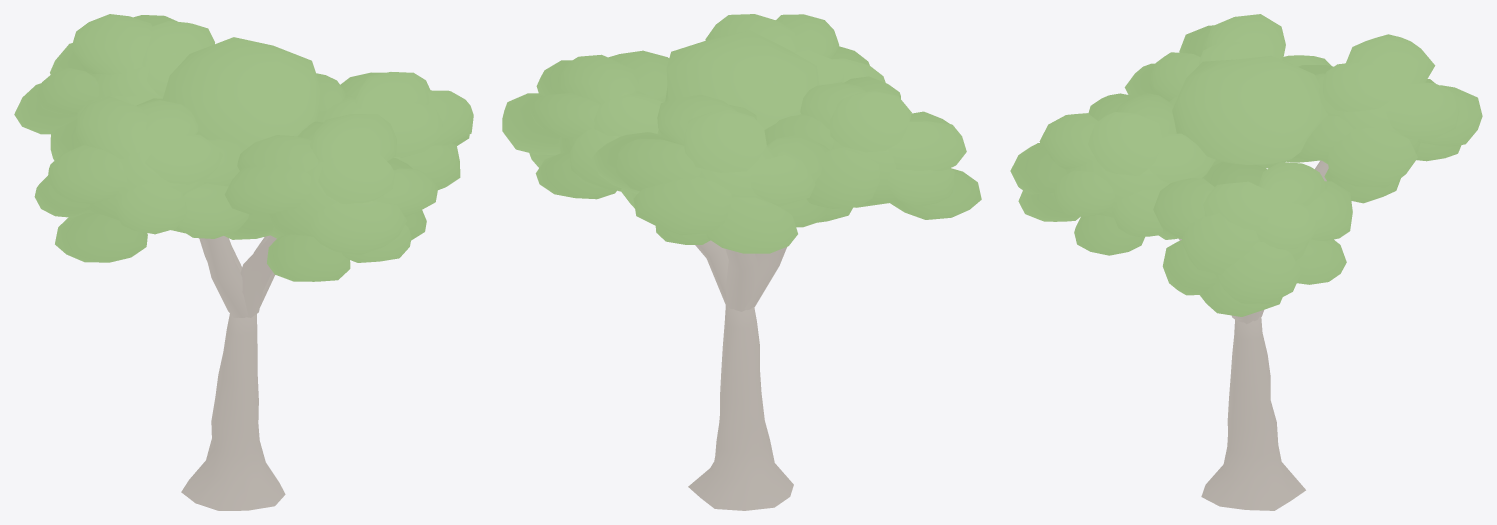
The model's file is Blender_LakeCottonwood_2.glb.
3 views of the same model, side by side, from view 1: azimuth 30°, elevation 25°; view 2: azimuth 150°, elevation 25°; view 3: azimuth 270°, elevation 25° (orthographic). The views are drawn at different scales.
Parts seen in each view (by area): view 1: Blender_LakeCottonwood_2; view 2: Blender_LakeCottonwood_2; view 3: Blender_LakeCottonwood_2.
Boxes of the visible parts, x1=… form: Blender_LakeCottonwood_2: x1=14, y1=14, x2=473, y2=510; Blender_LakeCottonwood_2: x1=502, y1=14, x2=981, y2=510; Blender_LakeCottonwood_2: x1=1010, y1=14, x2=1482, y2=510.
Bounding box in the file's own units: 21.44 × 20.55 × 20.58.
